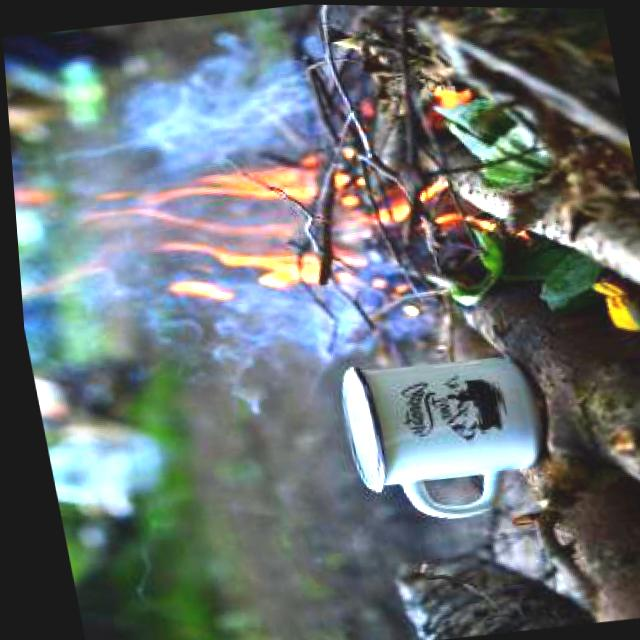Fire: (7, 118, 504, 336)
Smoke: (131, 264, 419, 387), (114, 28, 324, 174)
